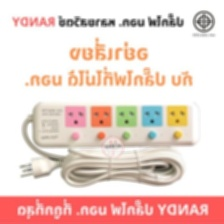three_eye_plug: (29, 97, 202, 150)
